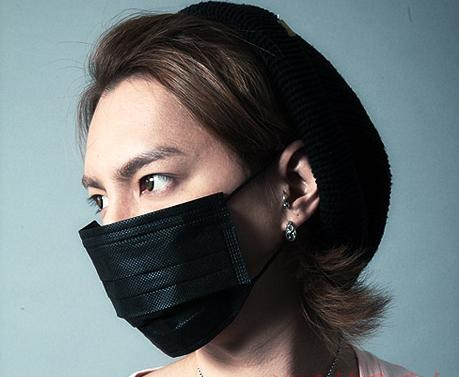face_mask: (83, 89, 264, 342)
